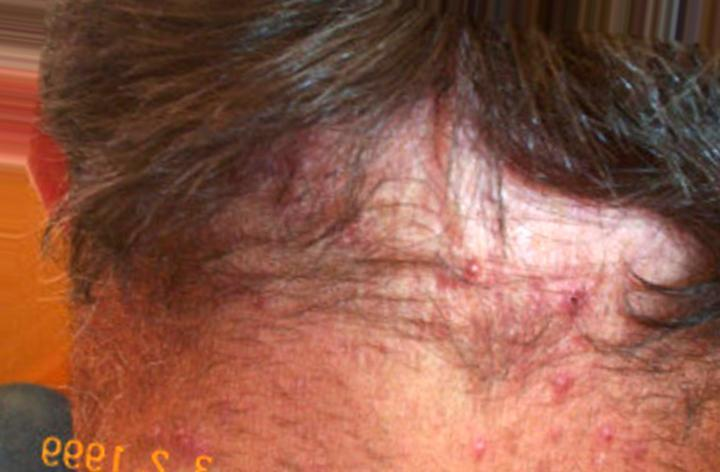Folliculitis: (229, 135, 626, 404)
